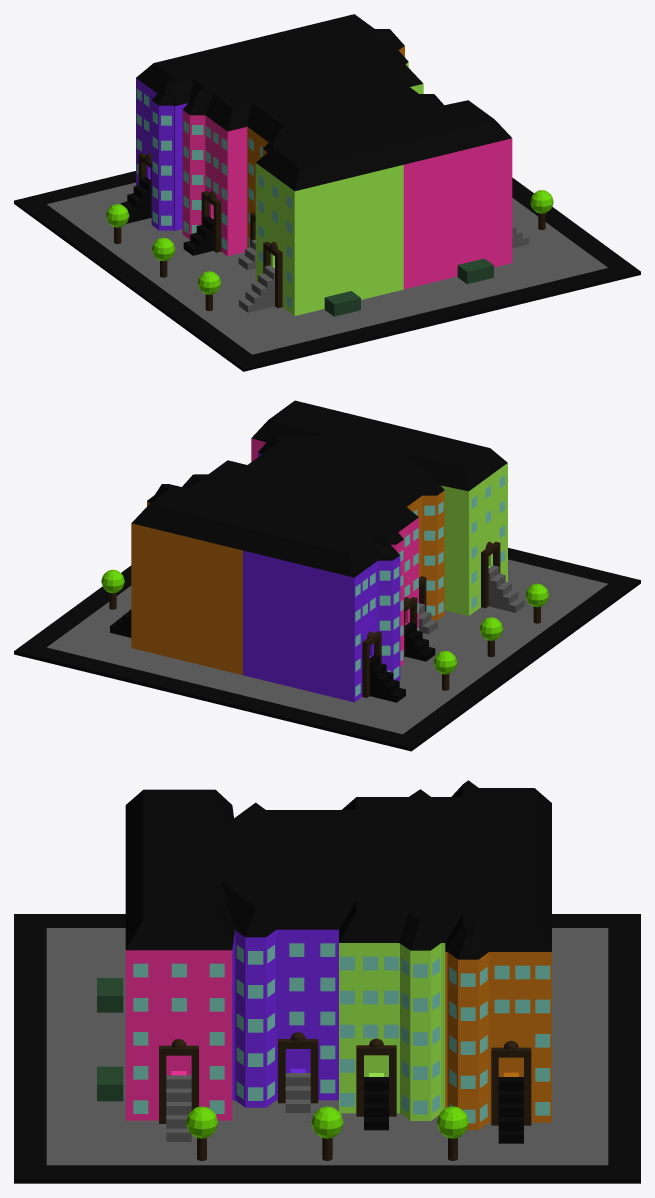
Rendered from rowhouses_c.FBX.
3 views of the same model, one above another, from view 1: azimuth 30°, elevation 25°; view 2: azimuth 150°, elevation 25°; view 3: azimuth 270°, elevation 25° (orthographic). The views are drawn at different scales.
Visible parts, largest first — view 1: Layer:0, Layer:bldgconcrete, Layer:rowhouse1, Layer:rowhouse3, Layer:street, Layer:rowhouse2, Layer:windows, Layer:wood, Layer:greenery, Layer:dumpster, Layer:rowhouse4; view 2: Layer:0, Layer:bldgconcrete, Layer:rowhouse2, Layer:rowhouse4, Layer:street, Layer:rowhouse3, Layer:windows, Layer:wood, Layer:greenery, Layer:rowhouse1; view 3: Layer:0, Layer:bldgconcrete, Layer:street, Layer:windows, Layer:rowhouse1, Layer:rowhouse2, Layer:rowhouse4, Layer:rowhouse3, Layer:wood, Layer:greenery, Layer:dumpster.
Boxes of the visible parts, box(x1,y1,x2,y2) form: Layer:0: box(121, 14, 511, 255); Layer:bldgconcrete: box(47, 182, 607, 354); Layer:rowhouse1: box(182, 110, 512, 289); Layer:rowhouse3: box(255, 62, 423, 315); Layer:street: box(14, 171, 640, 371); Layer:rowhouse2: box(136, 78, 187, 230); Layer:windows: box(136, 88, 291, 308); Layer:wood: box(114, 153, 545, 311); Layer:greenery: box(106, 190, 553, 294); Layer:dumpster: box(324, 258, 493, 316); Layer:rowhouse4: box(247, 46, 404, 248); Layer:0: box(110, 400, 507, 702); Layer:bldgconcrete: box(47, 559, 607, 734); Layer:rowhouse2: box(243, 452, 400, 702); Layer:rowhouse4: box(131, 490, 444, 675); Layer:street: box(14, 548, 640, 751); Layer:rowhouse3: box(441, 463, 507, 615); Layer:windows: box(355, 475, 504, 696); Layer:wood: box(109, 541, 540, 697); Layer:greenery: box(101, 569, 548, 674); Layer:rowhouse1: box(251, 438, 418, 666); Layer:0: box(125, 780, 551, 1143); Layer:bldgconcrete: box(46, 928, 608, 1165); Layer:street: box(14, 914, 640, 1183); Layer:windows: box(133, 943, 550, 1123); Layer:rowhouse1: box(125, 950, 232, 1120); Layer:rowhouse2: box(232, 929, 338, 1107); Layer:rowhouse4: box(445, 952, 551, 1129); Layer:rowhouse3: box(339, 943, 445, 1120); Layer:wood: box(159, 1032, 531, 1160); Layer:greenery: box(186, 1106, 468, 1138); Layer:dumpster: box(97, 978, 123, 1101).
Size of the model in its own units: 4000 by 1392 by 4000.
